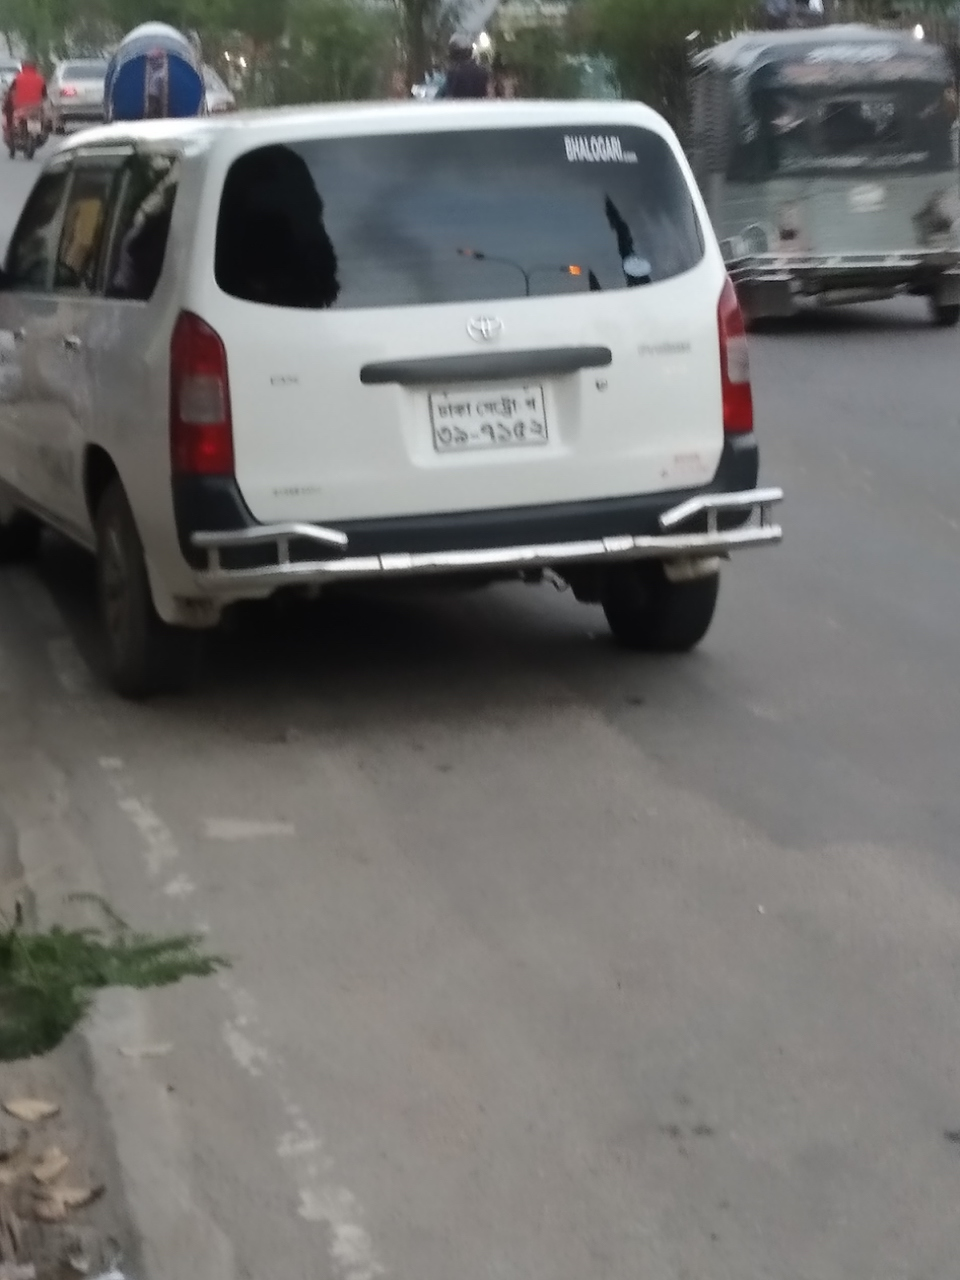registration_plate: (428, 380, 549, 454)
